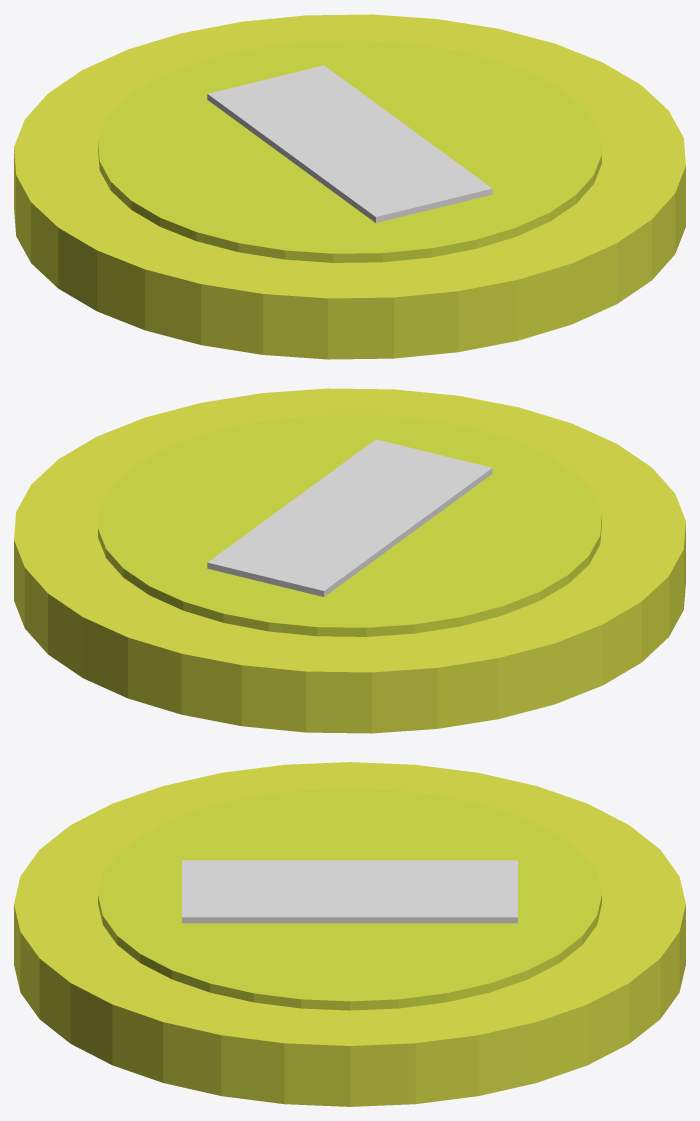
Rendered from coin.glb.
3 renders of one model, top to bottom at view 1: azimuth 30°, elevation 25°; view 2: azimuth 150°, elevation 25°; view 3: azimuth 270°, elevation 25°, orthographic.
Parts seen in each view (by area): view 1: Cylinder, Cylinder.001, Cube; view 2: Cylinder, Cylinder.001, Cube; view 3: Cylinder, Cylinder.001, Cube.
Part boxes in pixels (x1,y1,x2,y2): Cylinder: (14, 14, 685, 359); Cylinder.001: (98, 40, 601, 262); Cube: (207, 65, 492, 222); Cylinder: (14, 388, 685, 733); Cylinder.001: (98, 414, 601, 636); Cube: (207, 439, 492, 596); Cylinder: (14, 762, 685, 1106); Cylinder.001: (98, 788, 601, 1010); Cube: (182, 860, 517, 923).
Bounding box in the file's own units: 2 × 0.3 × 2.
